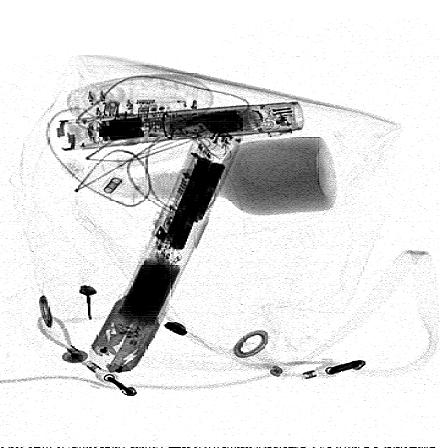Baton: (89, 122, 243, 374), (54, 99, 307, 153)
